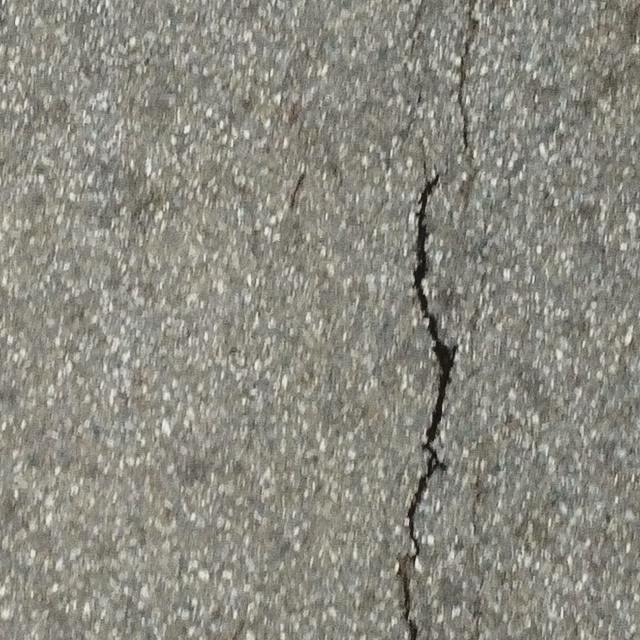LongitudinalCrack: (400, 174, 456, 638)
